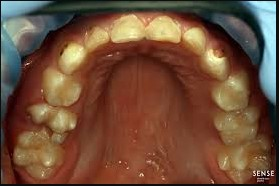UL1BC_healthy: (213, 75, 252, 109)
UL1M_decay: (216, 142, 274, 179)
UL2BC_healthy: (216, 110, 258, 143)
ULCI_decay: (145, 15, 180, 44)
ULC_decay: (203, 49, 232, 84)
ULLI_decay: (184, 26, 208, 55)
UR1BC_healthy: (42, 68, 82, 107)
UR1M_healthy: (19, 136, 62, 177)
UR2BC_decay: (31, 105, 76, 142)
URCI_decay: (109, 15, 145, 43)
URC_decay: (60, 43, 86, 74)
URLI_decay: (83, 27, 109, 50)
